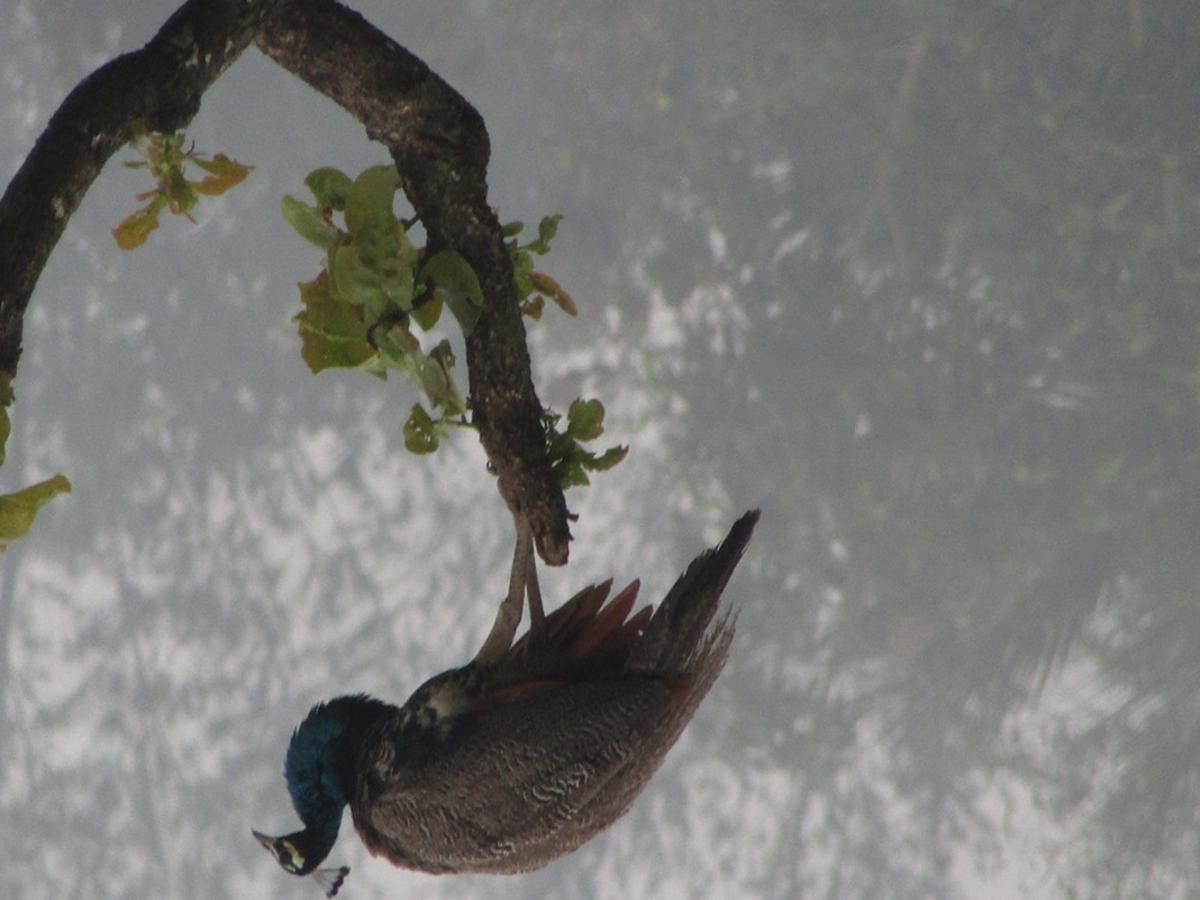peacock: (259, 533, 756, 881)
